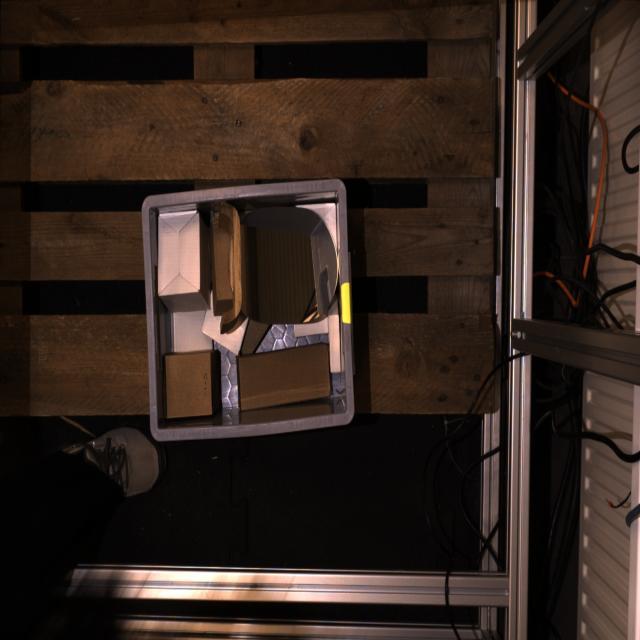CardboardBox: (236, 342, 331, 411), (158, 211, 210, 313), (163, 350, 217, 418), (202, 291, 247, 355), (211, 212, 233, 316), (298, 203, 338, 251), (171, 310, 212, 351), (328, 295, 341, 373)
Mirror: (219, 203, 337, 333)
